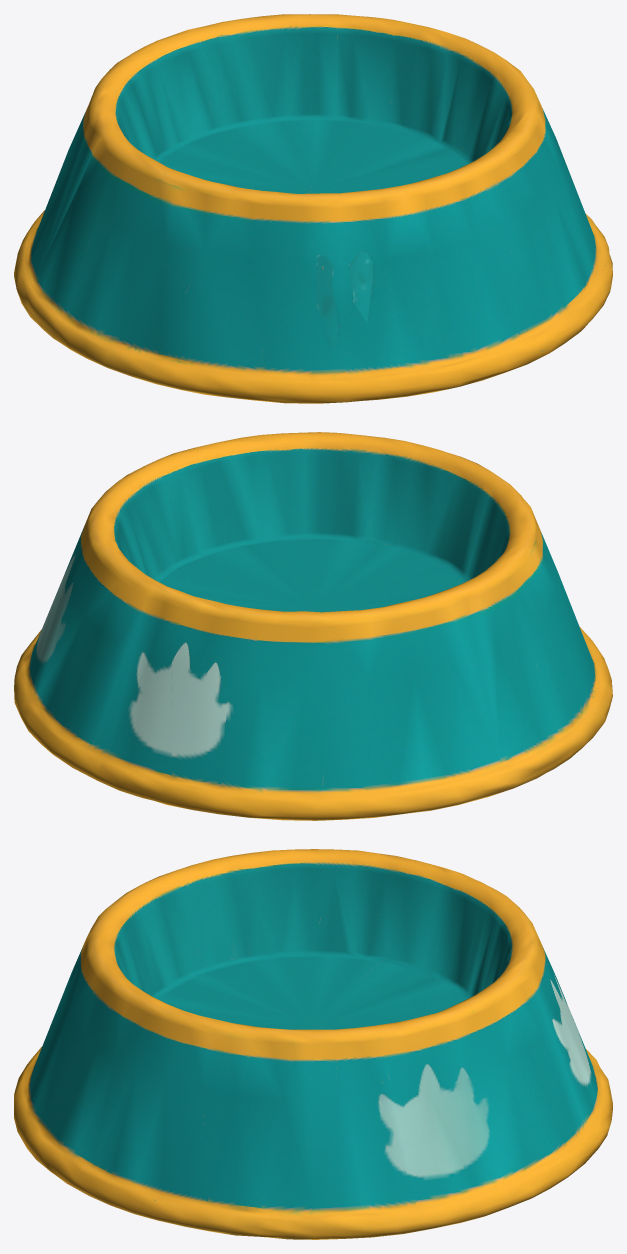
File: feeding-bowl.glb
3 views of the same model, one above another, from view 1: azimuth 30°, elevation 25°; view 2: azimuth 150°, elevation 25°; view 3: azimuth 270°, elevation 25° (orthographic).
Visible parts, largest first — view 1: Mesh_0; view 2: Mesh_0; view 3: Mesh_0.
Boxes of the visible parts, bbox=[...] form: Mesh_0: bbox=[14, 14, 612, 403]; Mesh_0: bbox=[14, 432, 612, 820]; Mesh_0: bbox=[14, 849, 612, 1239].
Size of the model in its own units: 0.1867 by 0.06 by 0.1867.
Materials: 1 (1 with a texture image).
